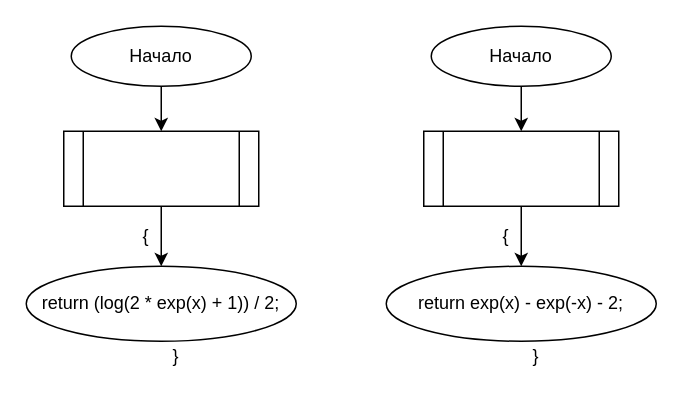
The diagram is 683 pixels wide and 398 high, and some of its shapes have lost their labels. Here are the shapes that lost their labels. From the top down, the centre of each, then its label:
At pixel 160 168: "double g(double x)".
At pixel 520 168: "double f(double x)".
